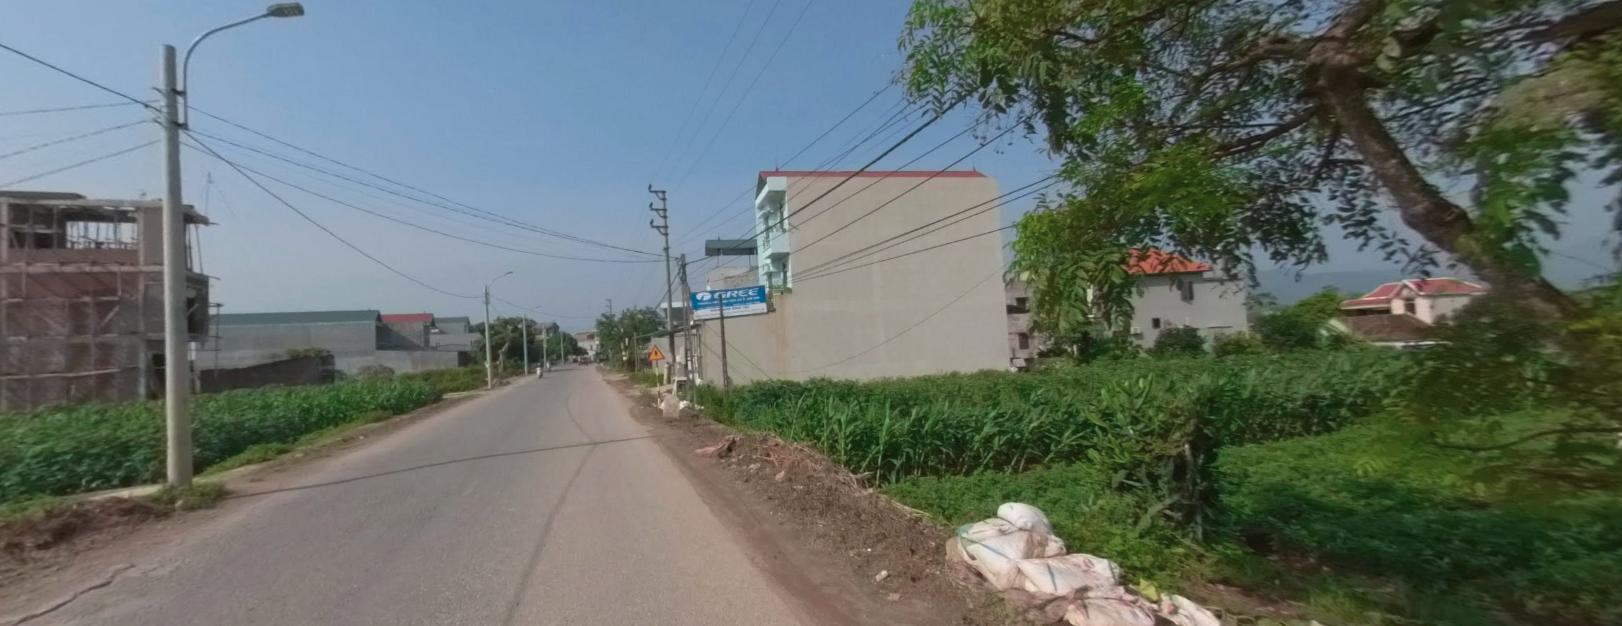Nguy hiem: (647, 342, 665, 358)
